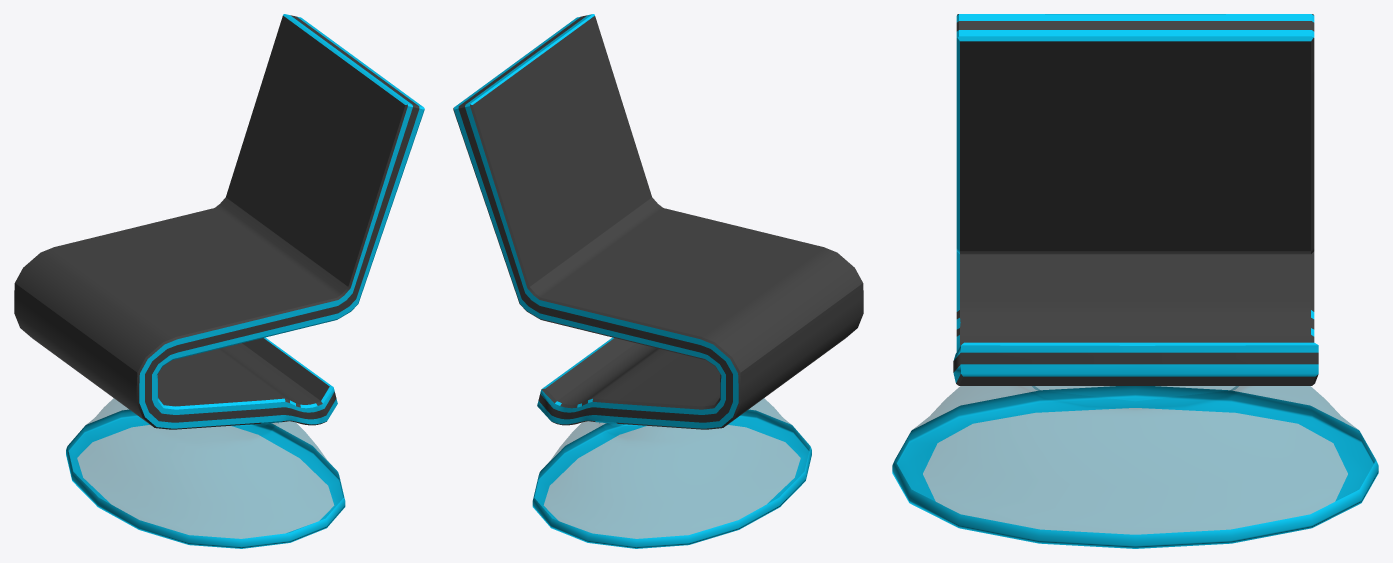
The model's file is chair1.fbx.
3 renders of one model, left to right at view 1: azimuth 30°, elevation 25°; view 2: azimuth 150°, elevation 25°; view 3: azimuth 270°, elevation 25°, orthographic. The views are drawn at different scales.
Visible parts, largest first — view 1: Chair; view 2: Chair; view 3: Chair.
Boxes of the visible parts, left/top/right/bottom form: Chair: left=14, top=14, right=424, bottom=548; Chair: left=453, top=14, right=863, bottom=548; Chair: left=892, top=14, right=1378, bottom=548.
Bounding box in the file's own units: 32.94 × 42.44 × 33.47.
